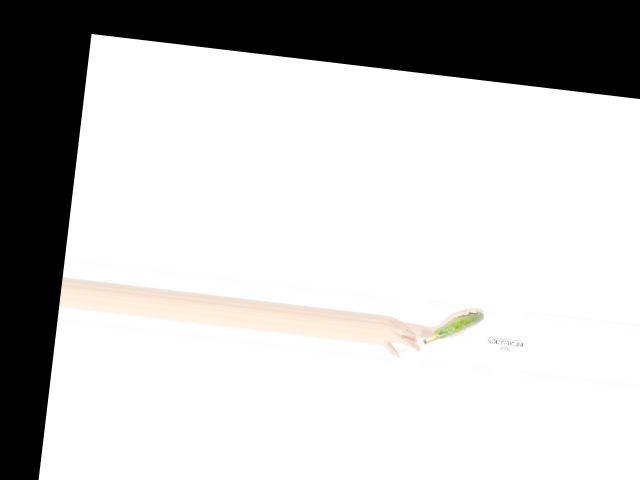cucumber: (433, 307, 483, 343)
